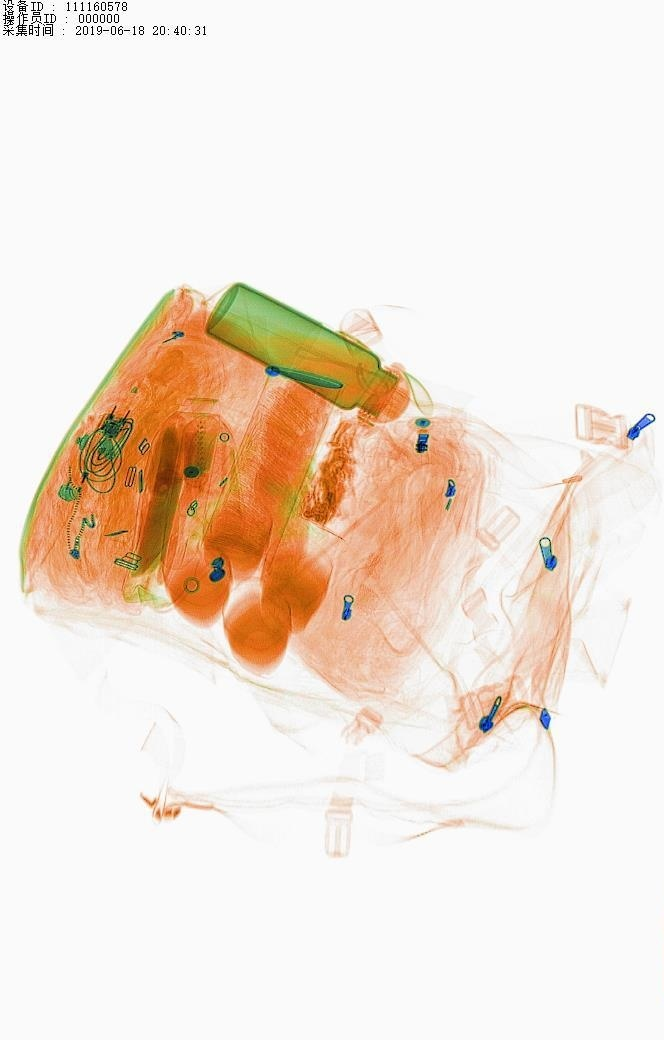NonmetallicFire: (57, 397, 129, 527)
